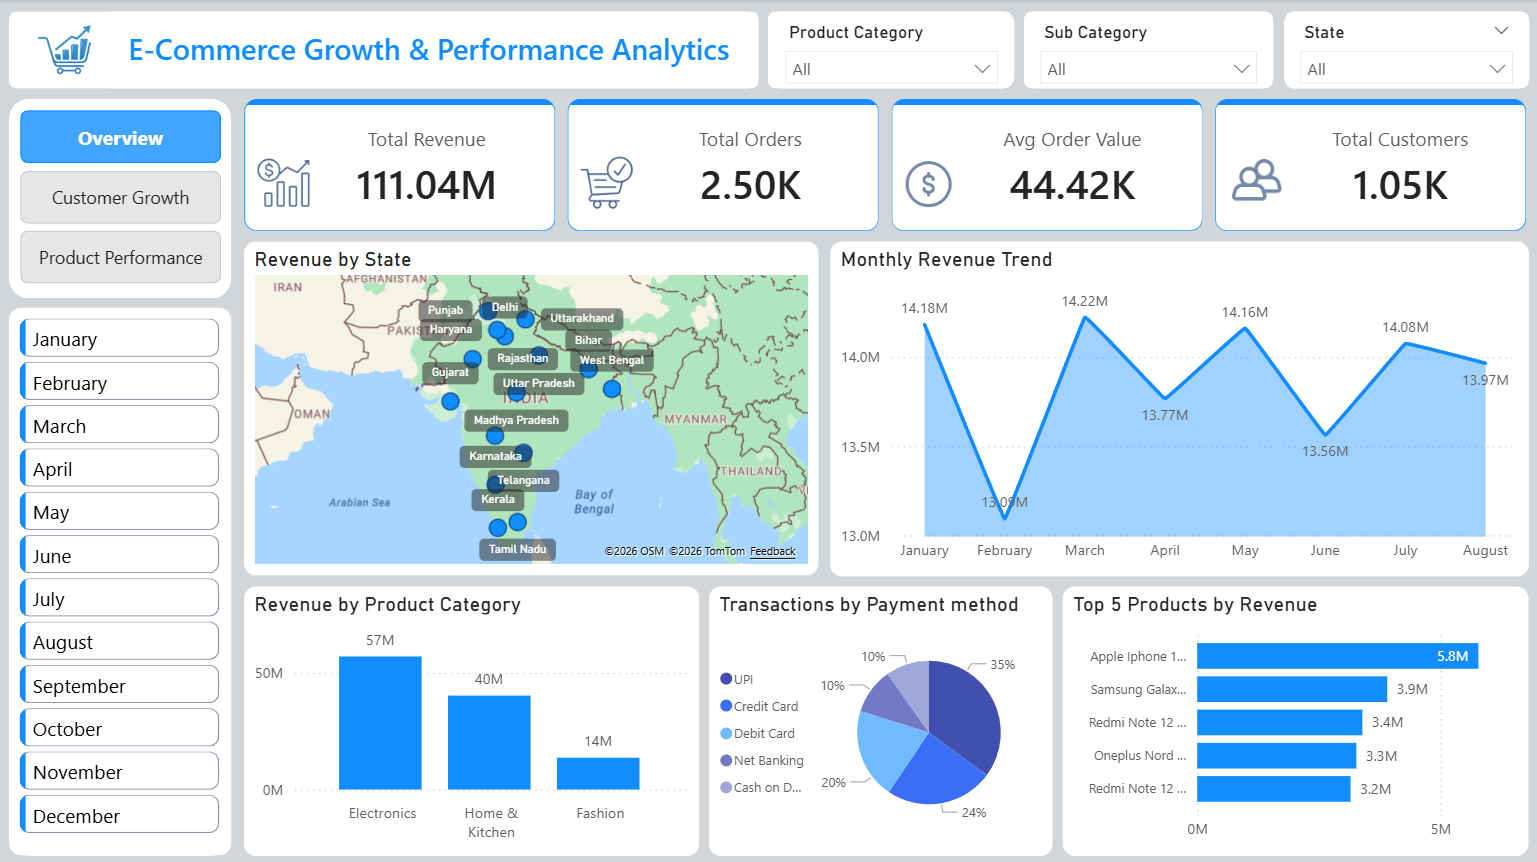

The page's visual inventory and layout, read from the dashboard file:
{"tool":"powerbi","page":{"name":"Overview","canvas":[1280,720],"ordinal":0},"visuals":[{"type":"shape","box":[8.3,10.7,623.4,64],"z":0},{"type":"shape","box":[639.5,10.5,203.5,64],"z":1000},{"type":"shape","box":[1069,10.7,202.7,64],"z":2000},{"type":"shape","box":[852.3,10.5,207,64],"z":3000},{"type":"shape","box":[8.3,83,184.9,165.9],"z":4000},{"type":"shape","box":[8.3,258.4,184.9,453.9],"z":5000},{"type":"cardVisual","fields":{"Data":["Fact_Orders.Total Revenue","Fact_Orders.Total Orders","Fact_Orders.Avg Order Value","Fact_Orders.Total Customers"]},"box":[203.9,83,1067.9,110.2],"z":6000},{"type":"slicer","fields":{"Values":["Dim_Products.category"]},"box":[640,10.7,203.9,64],"z":7000},{"type":"slicer","fields":{"Values":["Dim_Products.sub_category"]},"box":[852.1,10.7,207.4,64],"z":8000},{"type":"slicer","fields":{"Values":["Dim_Customers.state"]},"box":[1067.9,10.7,203.9,64],"z":9000},{"type":"textbox","box":[84,10.7,547.6,64],"z":10000},{"type":"image","box":[8.3,5.9,92.4,74.7],"z":11000},{"type":"areaChart","title":"Monthly Revenue Trend","fields":{"Category":["Custom_Calendar.Date.Variation.Date Hierarchy.Month"],"Y":["Fact_Orders.Total Revenue"]},"box":[691,201.5,580.7,278.5],"z":12000},{"type":"columnChart","title":"Revenue by Product Category","fields":{"Category":["Dim_Products.category"],"Y":["Fact_Orders.Total Revenue"]},"box":[203.9,488.3,378.1,224],"z":13000},{"type":"pieChart","title":"Transactions by Payment method","fields":{"Category":["Fact_Orders.payment_method"],"Y":["Fact_Orders.Total Transactions"]},"box":[590.2,488.3,285.6,224],"z":14000},{"type":"azureMap","title":"Revenue by State","fields":{"Category":["Dim_Customers.state"]},"box":[203.9,201.5,477.6,277.3],"z":15000},{"type":"barChart","title":"Top 5 Products by Revenue","fields":{"Y":["Fact_Orders.Total Revenue"],"Category":["Dim_Products.product_name"]},"box":[884.1,488.3,387.6,224],"z":16000},{"type":"pageNavigator","box":[17.8,92.4,167.1,145.8],"z":17000},{"type":"advancedSlicerVisual","fields":{"Values":["Custom_Calendar.Date.Variation.Date Hierarchy.Month"]},"box":[8.3,257.2,184.9,455.1],"z":18000}]}

Visuals, with their boxes in screenshot pixels (x1, y1, x2, y2), scaled from the page's 1280x720 canvas onto the 1537x862 screenshot:
shape: locate(10, 13, 759, 89)
shape: locate(768, 13, 1012, 89)
shape: locate(1284, 13, 1527, 89)
shape: locate(1023, 13, 1272, 89)
shape: locate(10, 99, 232, 298)
shape: locate(10, 309, 232, 853)
cardVisual - Fact_Orders.Total Revenue x Fact_Orders.Total Orders: locate(245, 99, 1527, 231)
slicer - Dim_Products.category: locate(768, 13, 1013, 89)
slicer - Dim_Products.sub_category: locate(1023, 13, 1272, 89)
slicer - Dim_Customers.state: locate(1282, 13, 1527, 89)
textbox: locate(101, 13, 758, 89)
image: locate(10, 7, 121, 96)
"Monthly Revenue Trend" areaChart: locate(830, 241, 1527, 575)
"Revenue by Product Category" columnChart: locate(245, 585, 699, 853)
"Transactions by Payment method" pieChart: locate(709, 585, 1052, 853)
"Revenue by State" azureMap: locate(245, 241, 818, 573)
"Top 5 Products by Revenue" barChart: locate(1062, 585, 1527, 853)
pageNavigator: locate(21, 111, 222, 285)
advancedSlicerVisual - Custom_Calendar.Date.Variation.Date Hierarchy.Month: locate(10, 308, 232, 853)
